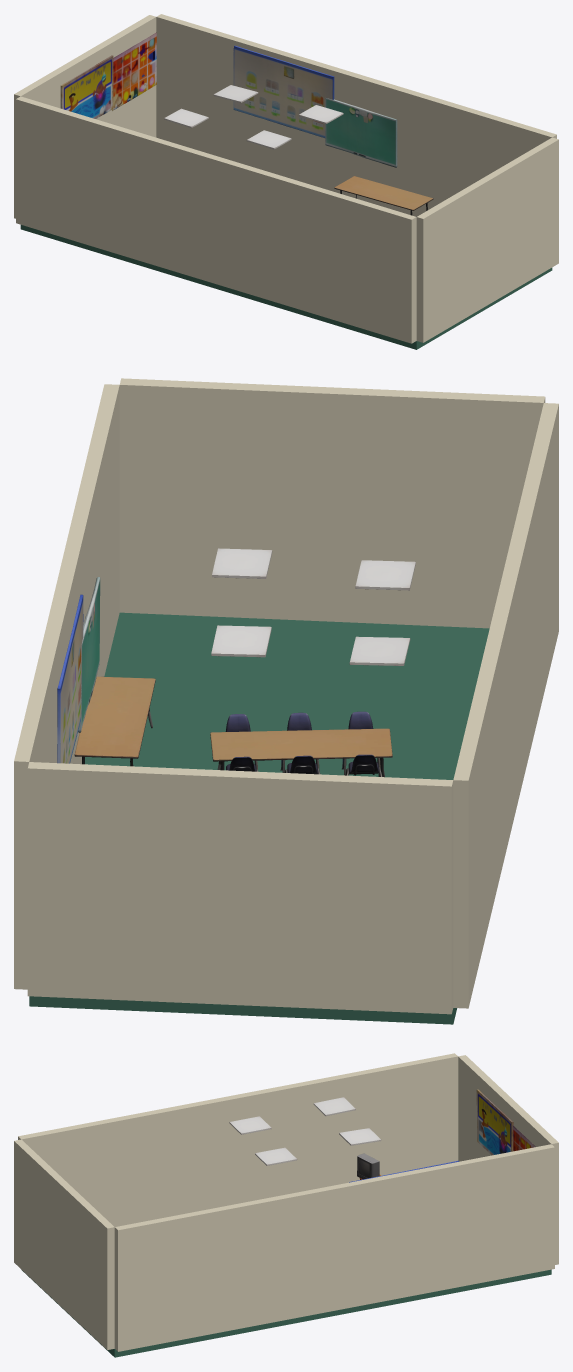
File: stage3.glb
The picture shows the model from 3 angles, top to bottom: view 1: azimuth 30°, elevation 25°; view 2: azimuth 150°, elevation 25°; view 3: azimuth 270°, elevation 25°; orthographic projection. The views are drawn at different scales.
Visible parts, largest first — view 1: Wall_01, geometry_0.021, geometry_0.002, Floor, geometry_0.006, geometry_0.026, geometry_0.008, geometry_0.005; view 2: Wall_01, Floor, geometry_0.005, geometry_0.008, geometry_0.021, geometry_0.002; view 3: Wall_01, Floor, geometry_0.008, geometry_0.006, geometry_0.
Boxes of the visible parts, x1,y1,x2,y2 form: Wall_01: (14, 14, 558, 343); geometry_0.021: (233, 45, 334, 137); geometry_0.002: (325, 97, 397, 167); Floor: (20, 225, 552, 349); geometry_0.006: (60, 55, 113, 118); geometry_0.026: (112, 32, 156, 110); geometry_0.008: (164, 85, 343, 149); geometry_0.005: (334, 176, 433, 215); Wall_01: (14, 378, 558, 1014); Floor: (29, 612, 489, 1024); geometry_0.005: (74, 676, 392, 776); geometry_0.008: (211, 548, 415, 665); geometry_0.021: (57, 594, 83, 763); geometry_0.002: (78, 577, 100, 732); Wall_01: (14, 1053, 558, 1351); Floor: (22, 1269, 551, 1357); geometry_0.008: (229, 1097, 381, 1165); geometry_0.006: (476, 1089, 513, 1155); geometry_0: (357, 1153, 379, 1179).
Size of the model in its own units: 12.79 by 4.4 by 16.64.
14 materials, 12 textured.
